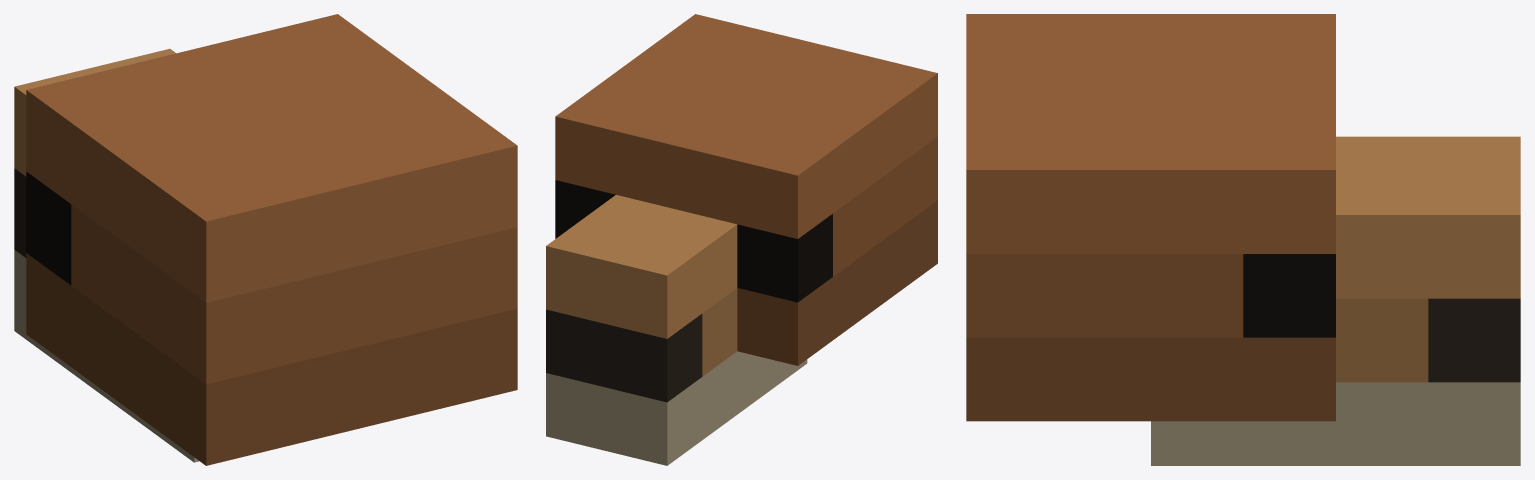
The model's file is head.glb.
3 renders of one model, left to right at view 1: azimuth 30°, elevation 25°; view 2: azimuth 150°, elevation 25°; view 3: azimuth 270°, elevation 25°, orthographic. The views are drawn at different scales.
Visible parts, largest first — view 1: head; view 2: head; view 3: head.
Boxes of the visible parts, x1,y1,x2,y2 form: head: (14,14,517,465); head: (546,14,937,465); head: (966,14,1520,465).
Size of the model in its own units: 0.5 by 0.5 by 0.75.
